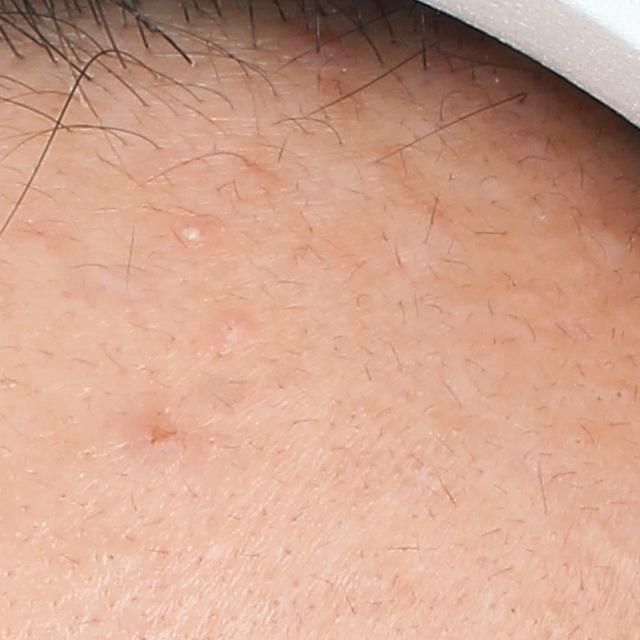pustule: (176, 217, 217, 254)
